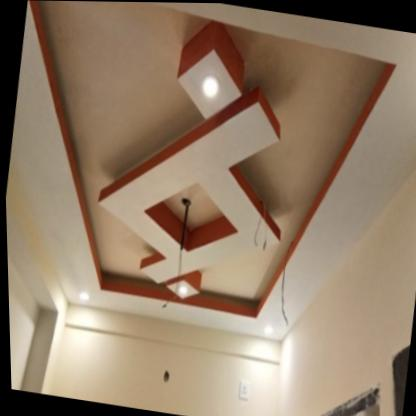Gypsum Board: (0, 0, 416, 361)
